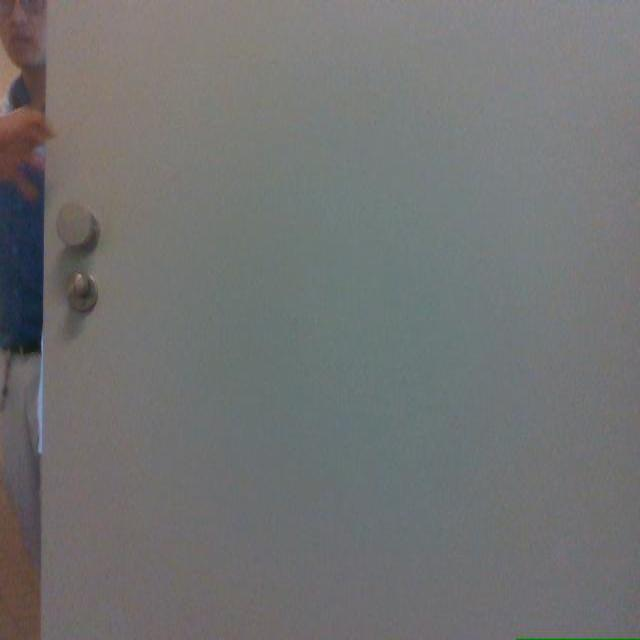humans: (0, 0, 52, 572)
objects: (42, 0, 639, 639)
